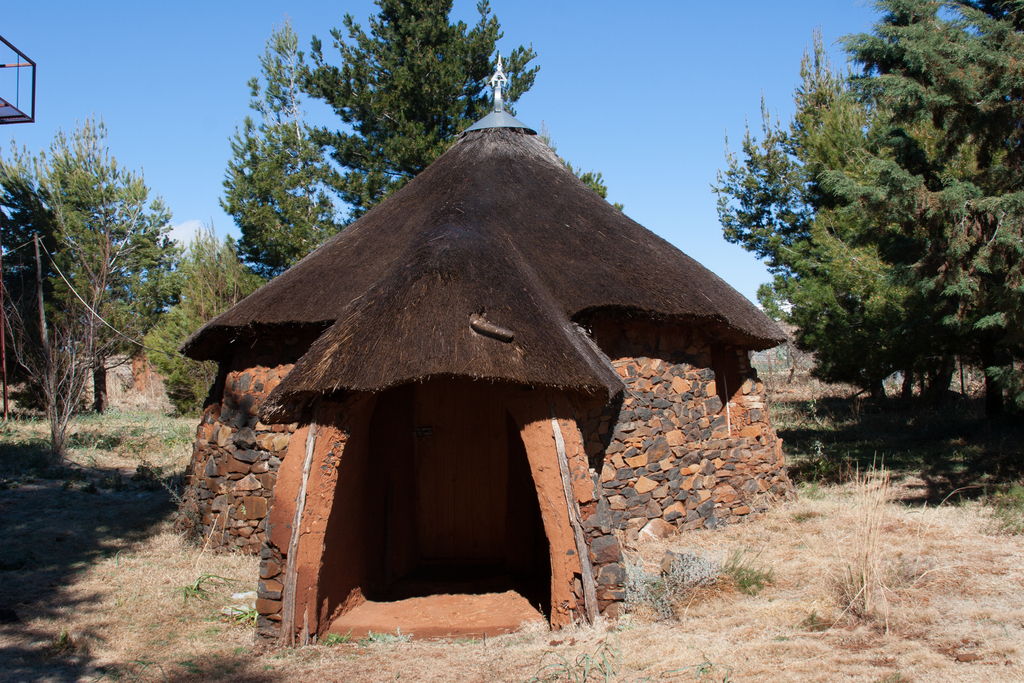Tree: (0, 0, 625, 412), (707, 0, 1024, 412)
